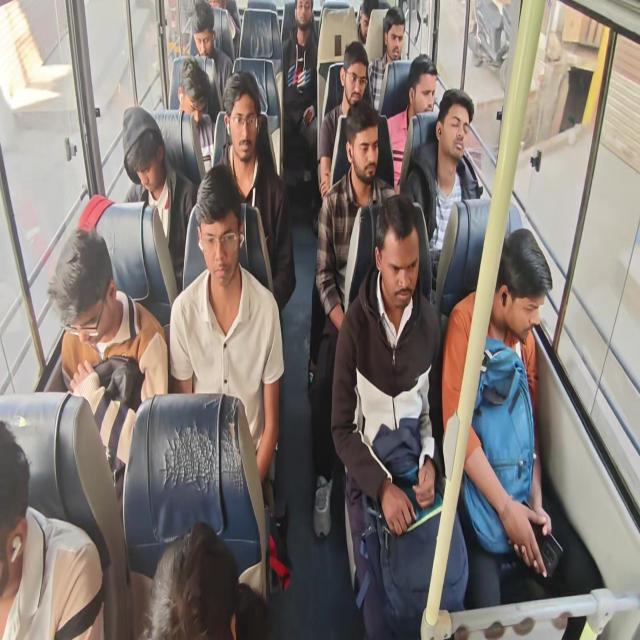person: (138, 506, 238, 640), (46, 220, 122, 352), (189, 146, 255, 294), (361, 186, 426, 312), (486, 214, 547, 348), (2, 396, 34, 615), (112, 100, 167, 212), (426, 77, 477, 163), (339, 99, 384, 190), (216, 86, 266, 160), (336, 31, 370, 108), (175, 58, 205, 131), (408, 44, 438, 116), (378, 9, 410, 68), (183, 6, 218, 59), (360, 4, 381, 42), (292, 0, 314, 31)
